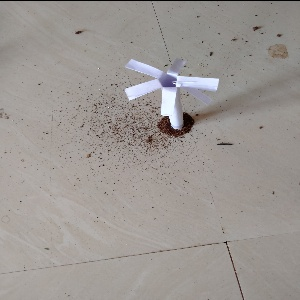weed: (120, 56, 223, 131)
